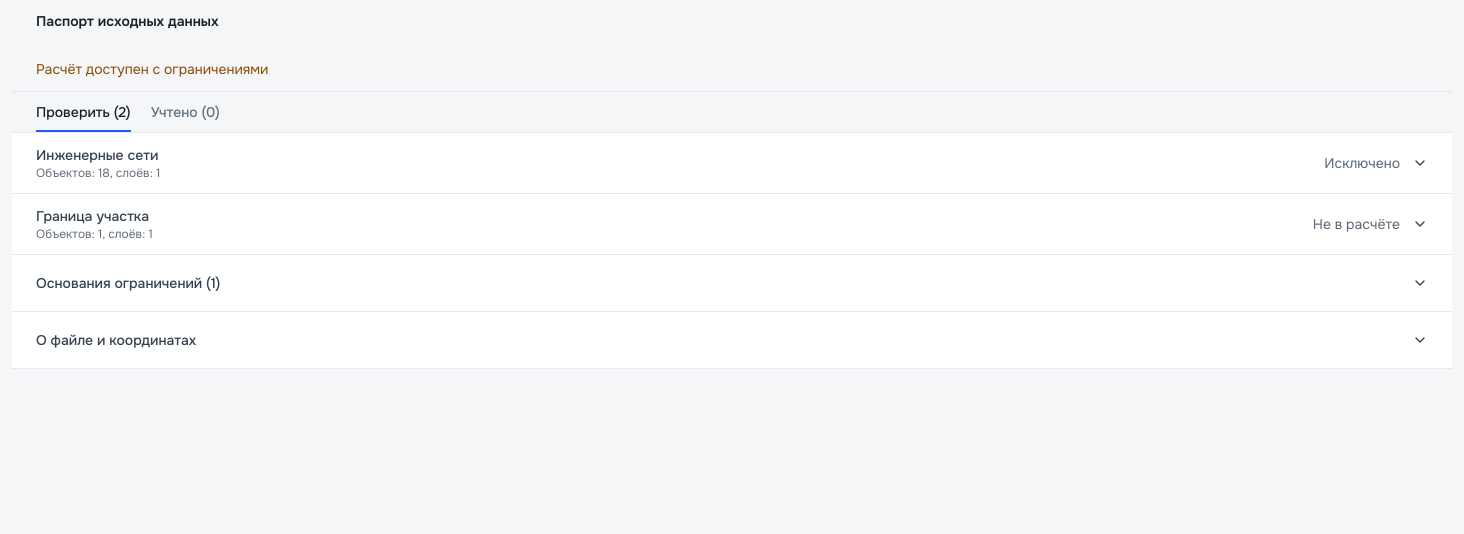
DataPassportPanel › keeps exclusions and complete but unused classes in attention
Check: the tab "Учтено (0)" is shown, box [151,92,220,132]
Check: the text "Исключено" is shown, box [1324,153,1400,173]
Click the button "Инженерные сети Объектов: 18, слоёв: 1 Исключено": (97, 155) [12,133,1452,193]
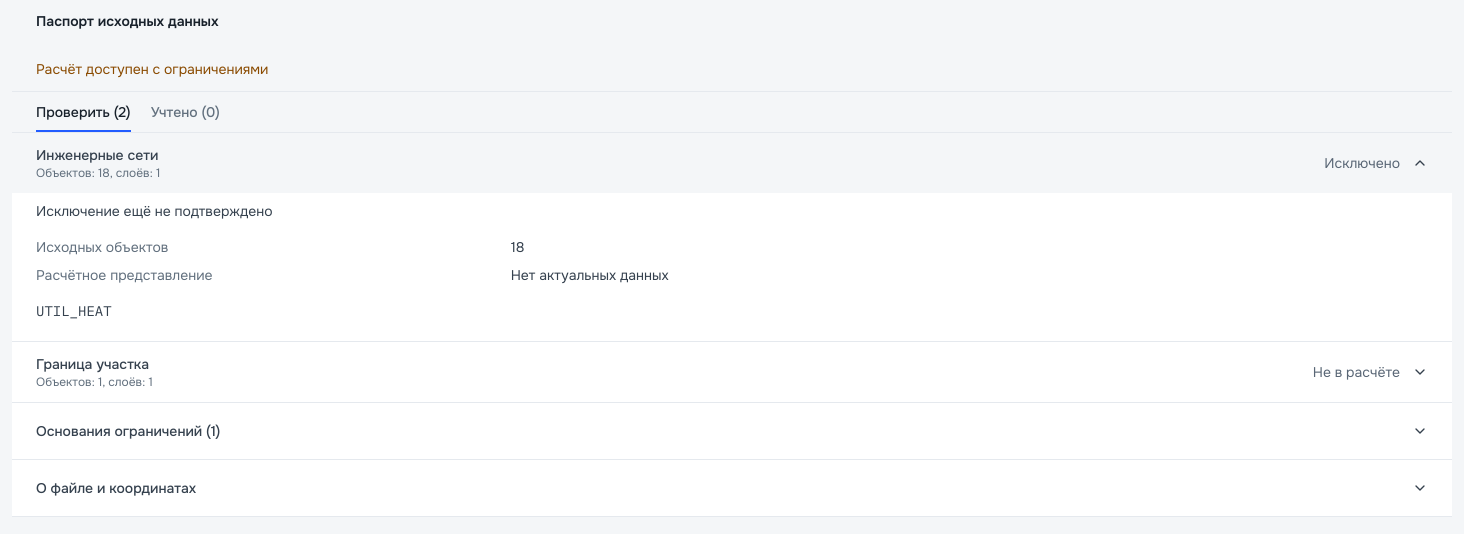
Check: the text "Исключение ещё не подтверждено" is shown, box [36,202,273,220]
